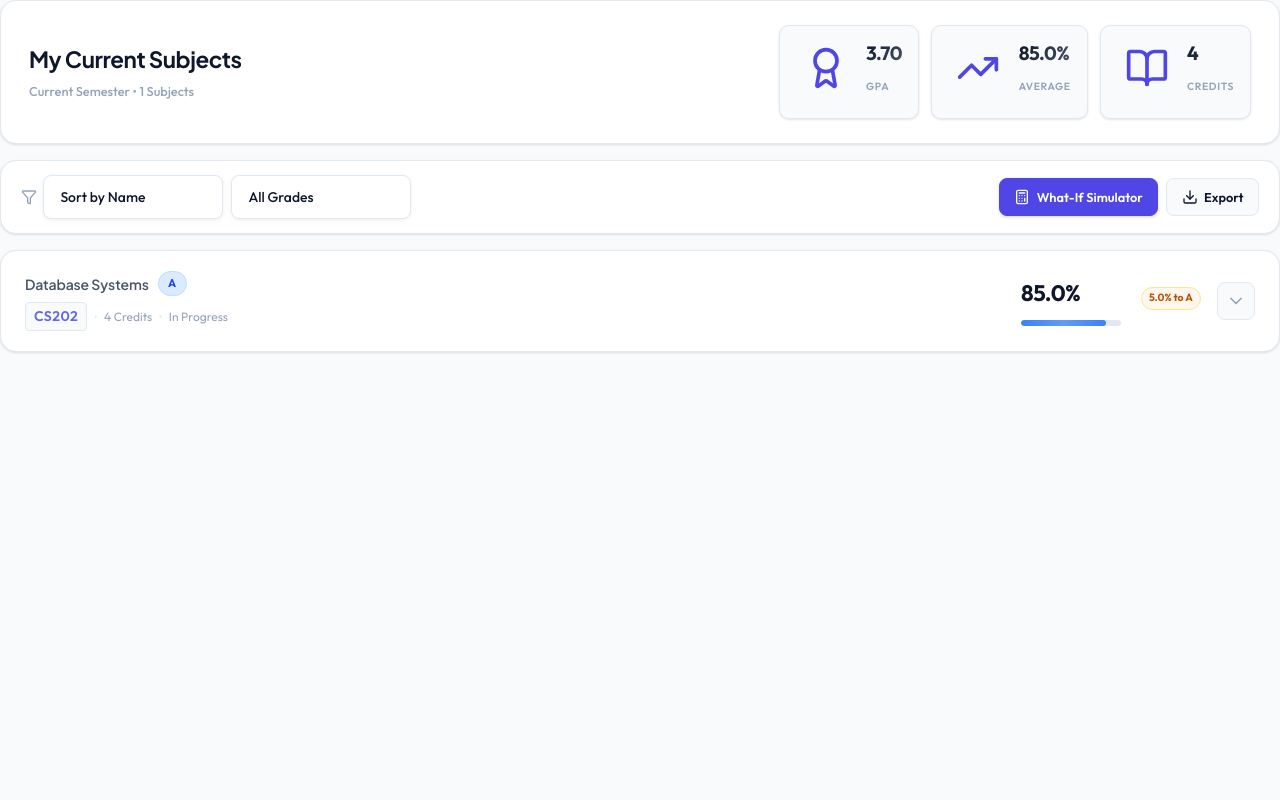
it: GradesTab Component › toggles simulator and calculates projected grade
This screenshot has width=1280, height=800.
expect the heading "Database Systems" is shown: met, box top-left (25, 272), bottom-right (149, 295)
Step 1. Click the button "What-If Simulator" → (1079,197), box top-left (999, 178), bottom-right (1158, 216)
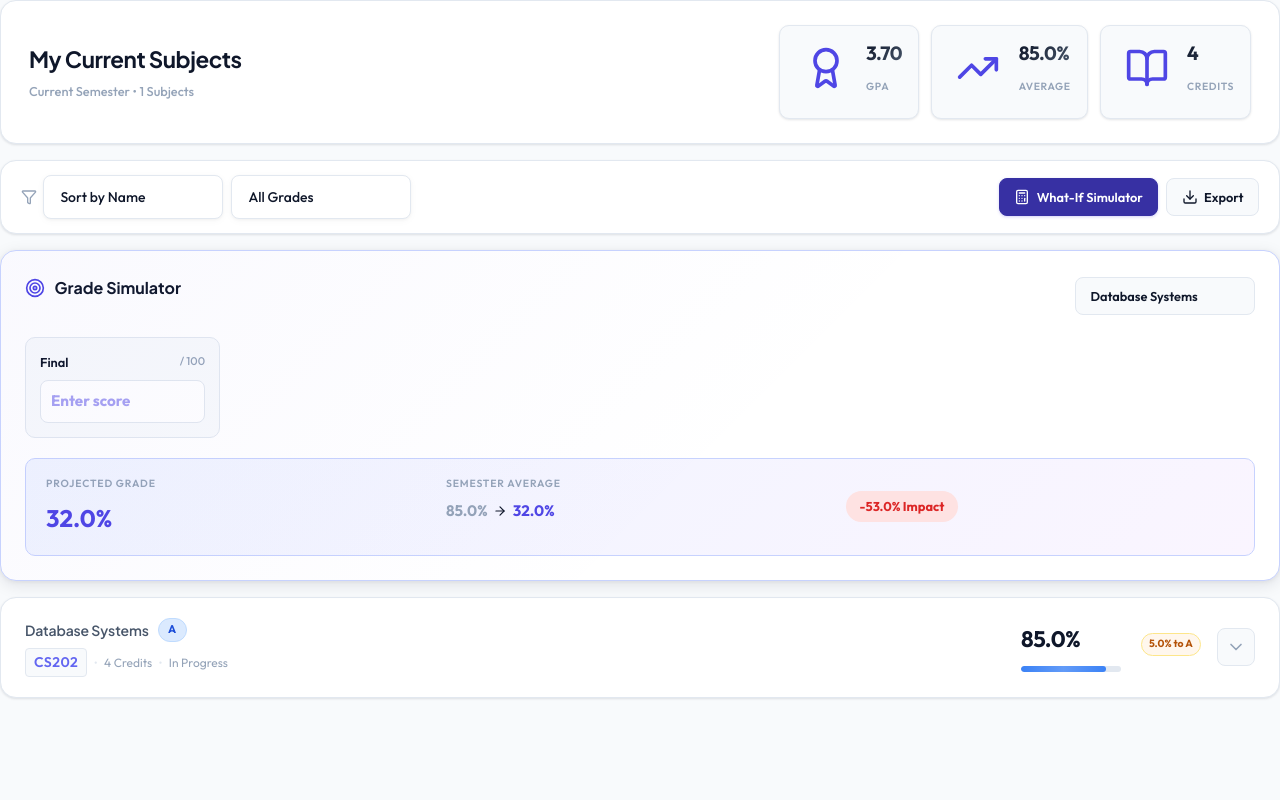
expect the heading "Grade Simulator" is shown: met, box top-left (55, 275), bottom-right (181, 301)
// Find input for the 'Final' component (which is null)
Step 2. Type "90" into the number field with placeholder "Enter score" → (122,402), box top-left (40, 380), bottom-right (205, 423)
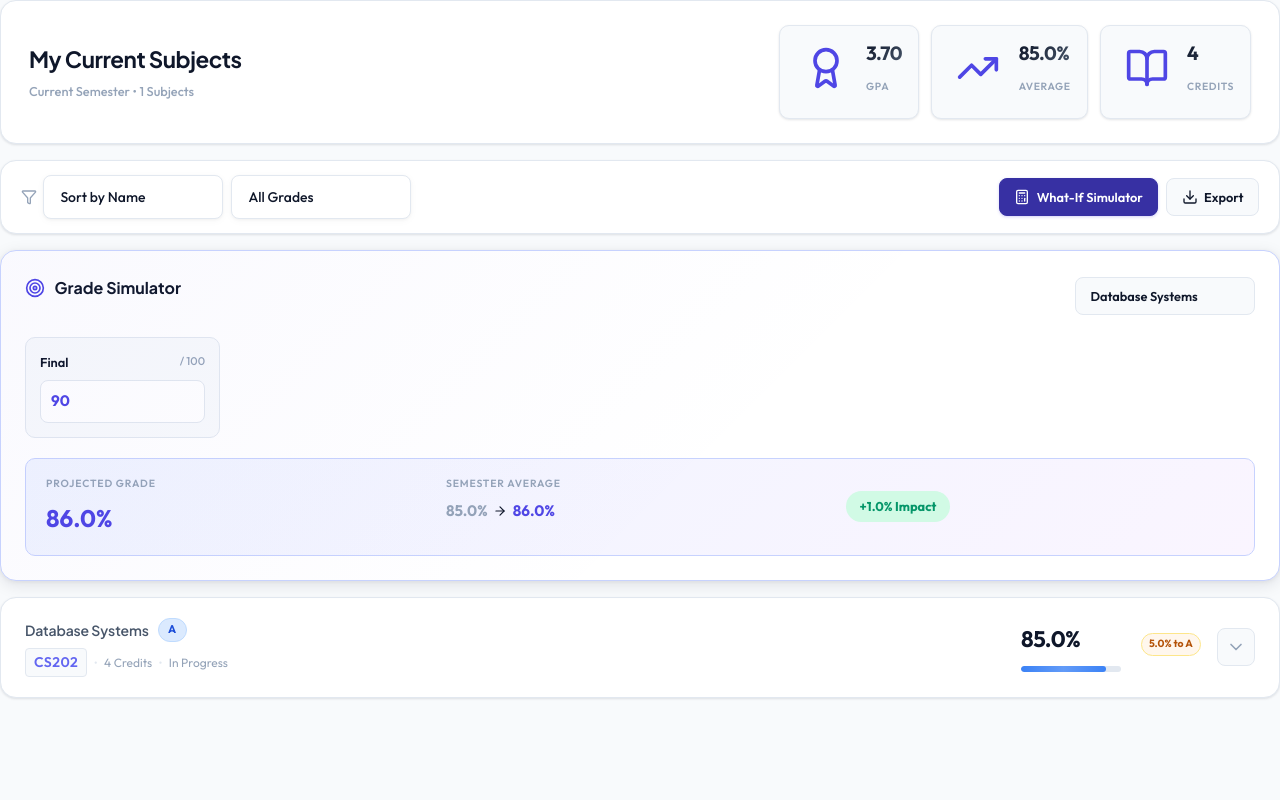
expect the text "86.0%" below "Projected Grade" is shown: met, box top-left (46, 503), bottom-right (96, 533)
